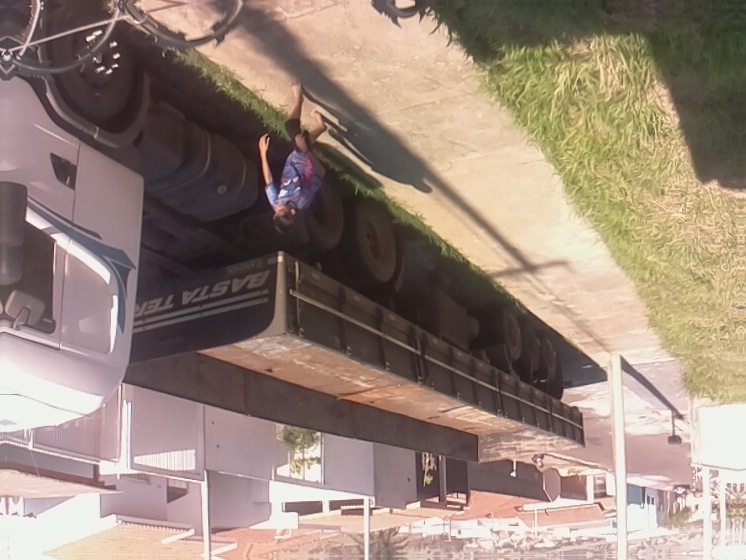person: (255, 72, 331, 238), (529, 452, 551, 469)
